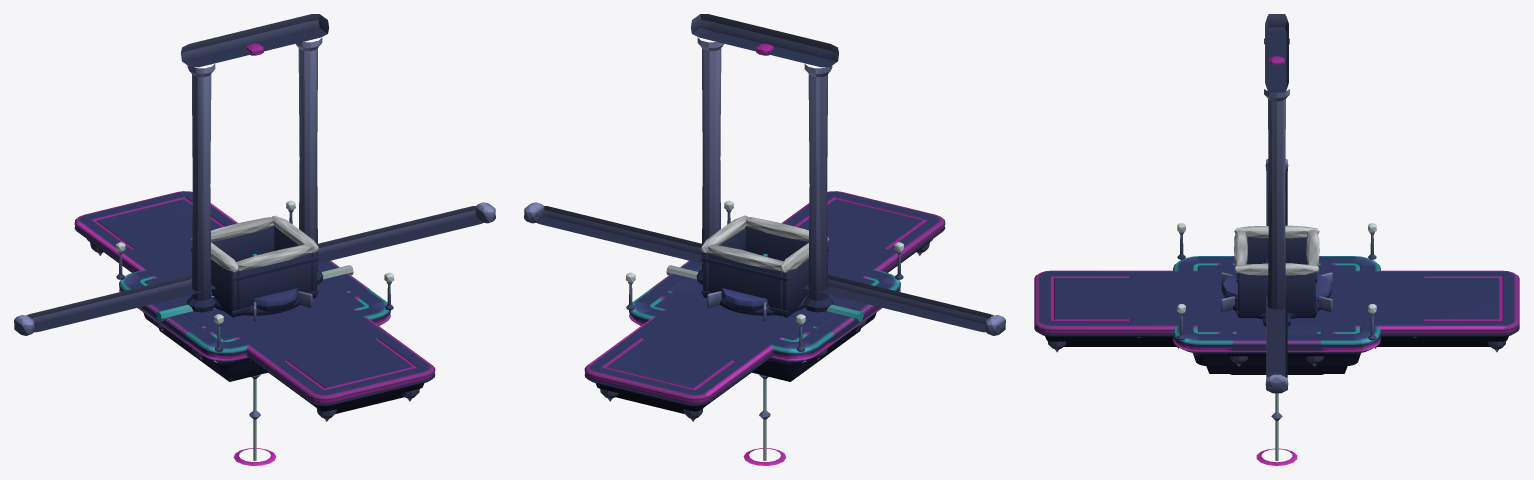
The model's file is core-4-BKacEK0x.glb.
3 views of the same model, side by side, from view 1: azimuth 30°, elevation 25°; view 2: azimuth 150°, elevation 25°; view 3: azimuth 270°, elevation 25° (orthographic). The views are drawn at different scales.
Visible parts, largest first — view 1: block_8x2x28#0, pressFrame_5x6x2x7#0, hopper_4x3#0, mount_14.9#0, pad_12x2x12#0, block_12x2x7#0, spout_2x5#0, belt_7x1.5x17x0#0, support_0_round#0, geyserVent_3.9#0, barHub_13x1.2#0; view 2: block_8x2x28#0, pressFrame_5x6x2x7#0, hopper_4x3#0, mount_14.9#0, pad_12x2x12#0, block_12x2x7#0, spout_2x5#0, belt_7x1.5x17x0#0, support_0_round#0, geyserVent_3.9#0, barHub_13x1.2#0; view 3: block_8x2x28#0, pad_12x2x12#0, hopper_4x3#0, pressFrame_5x6x2x7#0, block_12x2x7#0, mount_14.9#0, belt_7x1.5x17x0#0, geyserVent_3.9#0, spout_2x5#0, support_0_round#0.
Boxes of the visible parts, x1,y1,x2,y2 form: block_8x2x28#0: [74, 191, 435, 421]; pressFrame_5x6x2x7#0: [181, 14, 328, 312]; hopper_4x3#0: [190, 215, 319, 317]; mount_14.9#0: [14, 202, 495, 335]; pad_12x2x12#0: [115, 200, 394, 381]; block_12x2x7#0: [139, 261, 368, 360]; spout_2x5#0: [251, 253, 298, 311]; belt_7x1.5x17x0#0: [132, 248, 377, 361]; support_0_round#0: [233, 374, 276, 465]; geyserVent_3.9#0: [211, 291, 312, 321]; barHub_13x1.2#0: [156, 265, 353, 321]; block_8x2x28#0: [584, 191, 945, 421]; pressFrame_5x6x2x7#0: [691, 14, 838, 312]; hopper_4x3#0: [700, 215, 829, 317]; mount_14.9#0: [524, 202, 1005, 335]; pad_12x2x12#0: [625, 200, 904, 381]; block_12x2x7#0: [651, 261, 880, 360]; spout_2x5#0: [721, 253, 768, 311]; belt_7x1.5x17x0#0: [642, 248, 887, 361]; support_0_round#0: [743, 374, 786, 465]; geyserVent_3.9#0: [707, 291, 808, 321]; barHub_13x1.2#0: [666, 265, 863, 321]; block_8x2x28#0: [1034, 270, 1519, 352]; pad_12x2x12#0: [1173, 223, 1380, 374]; hopper_4x3#0: [1234, 225, 1319, 317]; pressFrame_5x6x2x7#0: [1263, 14, 1290, 326]; block_12x2x7#0: [1217, 256, 1336, 366]; mount_14.9#0: [1265, 159, 1288, 393]; belt_7x1.5x17x0#0: [1129, 276, 1424, 337]; geyserVent_3.9#0: [1221, 272, 1332, 318]; spout_2x5#0: [1221, 274, 1332, 301]; support_0_round#0: [1256, 393, 1297, 465].
Size of the model in its own units: 30.7 by 26.4 by 28.
